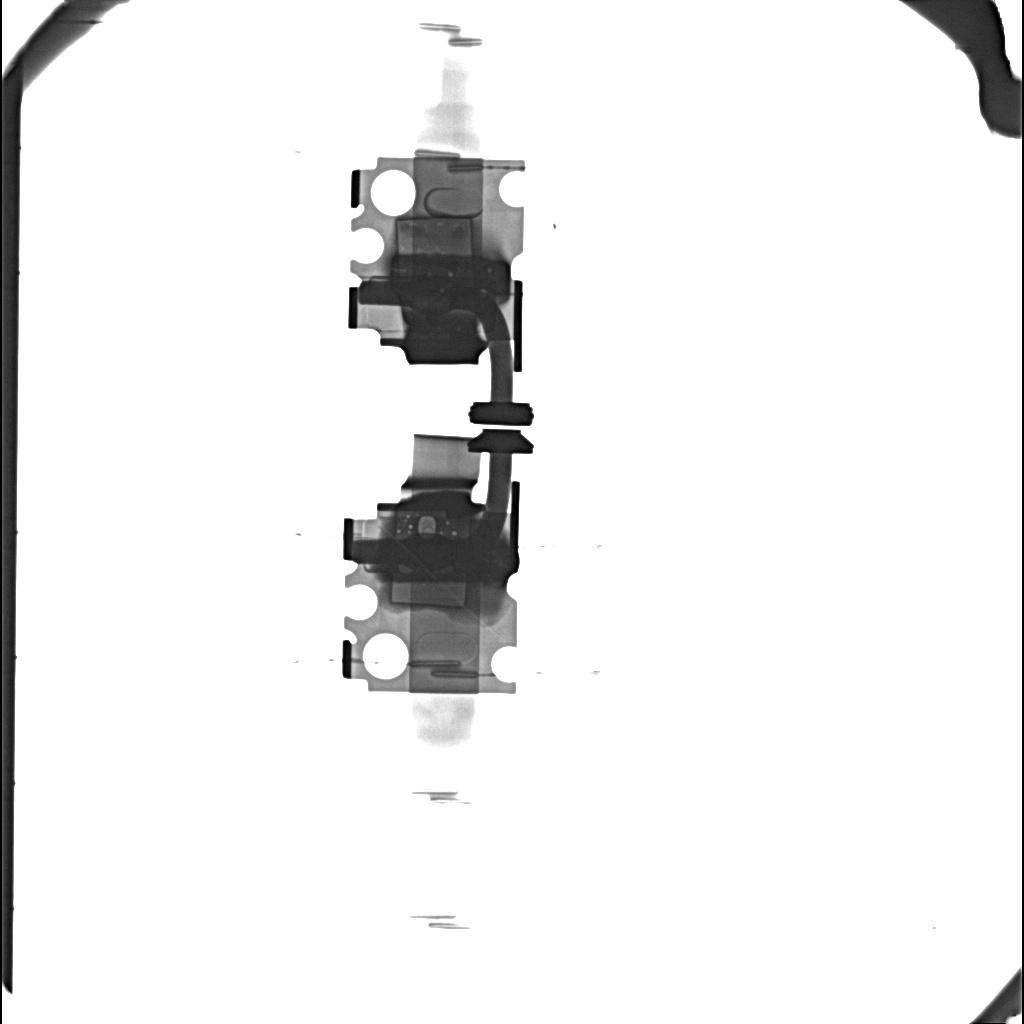气孔: (396, 216, 474, 252), (390, 583, 468, 609)
气泡: (418, 515, 437, 534)
水纹: (378, 540, 513, 582), (391, 254, 509, 299)
